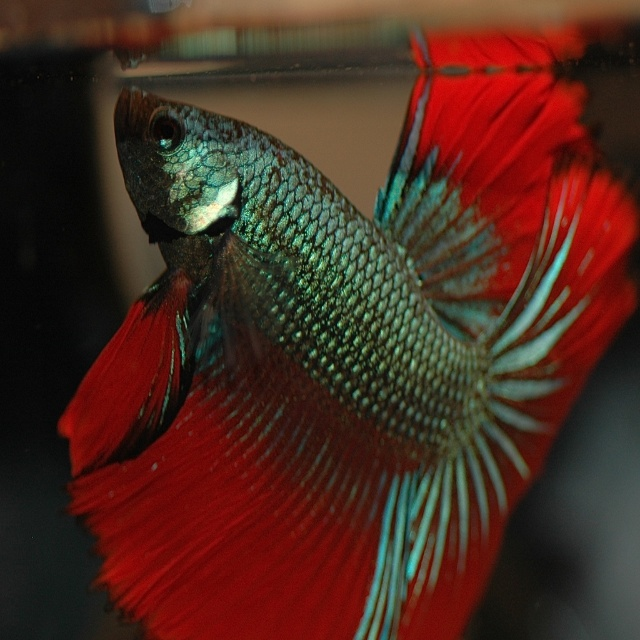Fish: (56, 89, 638, 639)
